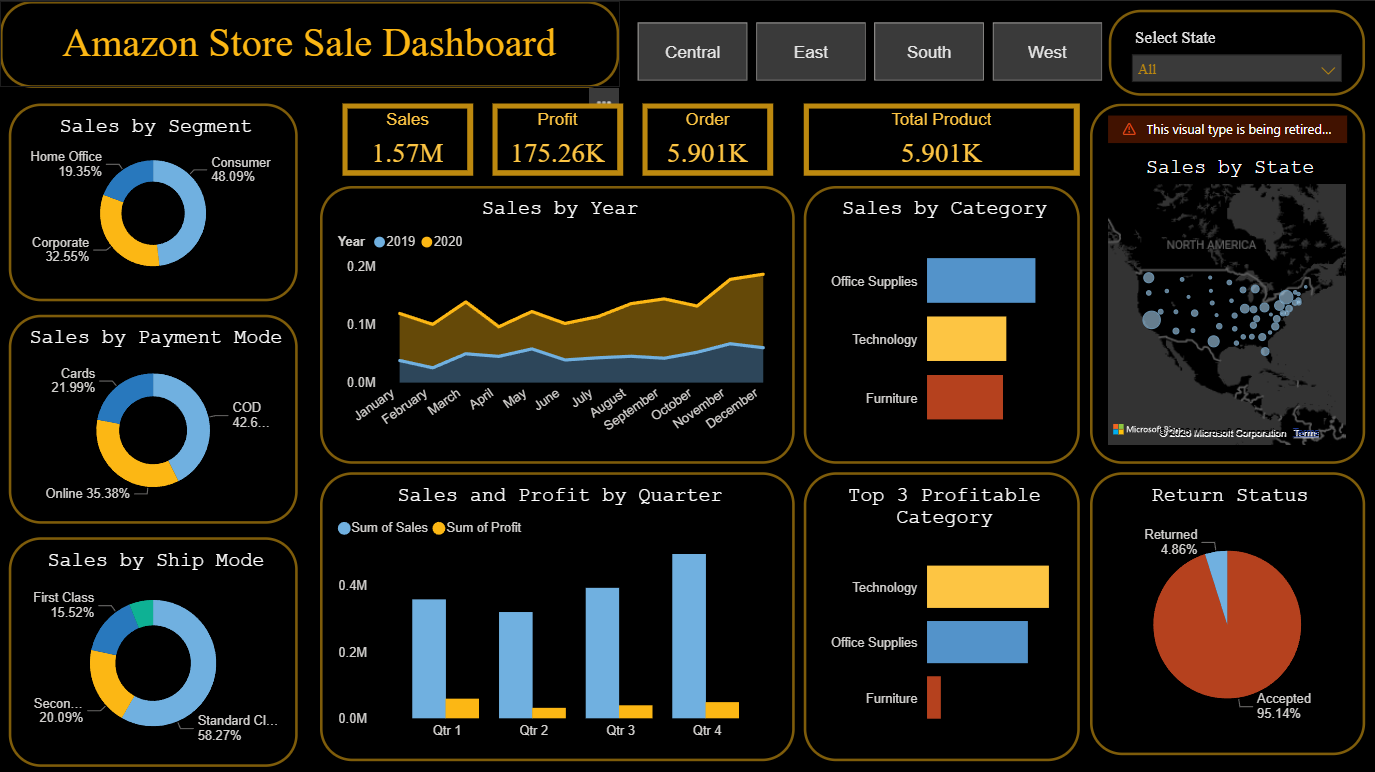

This screenshot's page, from the dashboard's own definition file:
{"tool":"powerbi","page":{"name":"Page 1","canvas":[1280,720],"ordinal":0},"visuals":[{"type":"barChart","title":"Sales by Category","fields":{"Category":["Amazon Store Sales Data xlsx - Sheet1 (1).Category"],"Y":["Sum(Amazon Store Sales Data xlsx - Sheet1 (1).Sales)"]},"box":[748.1,171.7,257,258.2],"z":0},{"type":"donutChart","title":"Sales by Segment","fields":{"Y":["Sum(Amazon Store Sales Data xlsx - Sheet1 (1).Sales)"],"Category":["Amazon Store Sales Data xlsx - Sheet1 (1).Segment"]},"box":[8.4,94.9,269,183.7],"z":1000},{"type":"donutChart","title":"Sales by Payment Mode","fields":{"Y":["Sum(Amazon Store Sales Data xlsx - Sheet1 (1).Sales)"],"Category":["Amazon Store Sales Data xlsx - Sheet1 (1).Payment Mode"]},"box":[8.4,291.8,269,194.5],"z":2000},{"type":"donutChart","title":"Sales by Ship Mode","fields":{"Y":["Sum(Amazon Store Sales Data xlsx - Sheet1 (1).Sales)"],"Category":["Amazon Store Sales Data xlsx - Sheet1 (1).Ship Mode"]},"box":[8.4,498.3,269,213.7],"z":3000},{"type":"pieChart","title":" Return Status","fields":{"Category":["Amazon Store Sales Data xlsx - Sheet1 (1).Return Status"],"Y":["CountNonNull(Amazon Store Sales Data xlsx - Sheet1 (1).Order ID)"]},"box":[1013.4,438.3,255.8,263],"z":4000},{"type":"stackedAreaChart","title":" Sales by Year","fields":{"Category":["Amazon Store Sales Data xlsx - Sheet1 (1).Order Date.Variation.Date Hierarchy.Month"],"Y":["Sum(Amazon Store Sales Data xlsx - Sheet1 (1).Sales)"],"Series":["Amazon Store Sales Data xlsx - Sheet1 (1).Order Date.Variation.Date Hierarchy.Year"]},"box":[297.8,171.7,441.9,258.2],"z":5000},{"type":"clusteredColumnChart","title":"Sales and Profit by Quarter","fields":{"Y":["Sum(Amazon Store Sales Data xlsx - Sheet1 (1).Sales)","Sum(Amazon Store Sales Data xlsx - Sheet1 (1).Profit)"],"Category":["Amazon Store Sales Data xlsx - Sheet1 (1).Order Date.Variation.Date Hierarchy.Quarter"]},"box":[297.8,438.3,441.9,269],"z":6000},{"type":"map","title":" Sales by State","fields":{"Category":["Amazon Store Sales Data xlsx - Sheet1 (1).State"],"Size":["Sum(Amazon Store Sales Data xlsx - Sheet1 (1).Sales)"]},"box":[1013.4,94.9,255.8,335],"z":7000},{"type":"textbox","box":[0,0,576.4,80.5],"z":8000},{"type":"clusteredBarChart","title":"Top 3 Profitable Category","fields":{"Y":["Sum(Amazon Store Sales Data xlsx - Sheet1 (1).Profit)"],"Category":["Amazon Store Sales Data xlsx - Sheet1 (1).Category"]},"box":[748,438,257,269],"z":9000},{"type":"advancedSlicerVisual","fields":{"Values":["Amazon Store Sales Data xlsx - Sheet1 (1).Region"]},"box":[588.4,15.6,443.1,64.8],"z":10000},{"type":"cardVisual","fields":{"Data":["Sum(Amazon Store Sales Data xlsx - Sheet1 (1).Sales)"]},"box":[318.2,94.9,121.3,67.2],"z":11000},{"type":"cardVisual","fields":{"Data":["Sum(Amazon Store Sales Data xlsx - Sheet1 (1).Profit)"]},"box":[458.7,94.9,121.3,67.2],"z":12000},{"type":"cardVisual","fields":{"Data":["CountNonNull(Amazon Store Sales Data xlsx - Sheet1 (1).Order ID)"]},"box":[598,94.9,121.3,67.2],"z":13000},{"type":"cardVisual","fields":{"Data":["CountNonNull(Amazon Store Sales Data xlsx - Sheet1 (1).Product ID)"]},"box":[748.1,94.9,257,67.2],"z":14000},{"type":"slicer","fields":{"Values":["Amazon Store Sales Data xlsx - Sheet1 (1).State"]},"box":[1031.3,8.4,238.3,80.1],"z":15000}]}

Visuals, with their boxes in screenshot pixels (x1, y1, x2, y2), scaled from the page's 1280x720 canvas onto the 1375x772 screenshot:
"Sales by Category" barChart: 804/184/1080/461
"Sales by Segment" donutChart: 9/102/298/299
"Sales by Payment Mode" donutChart: 9/313/298/521
"Sales by Ship Mode" donutChart: 9/534/298/763
" Return Status" pieChart: 1089/470/1363/752
" Sales by Year" stackedAreaChart: 320/184/795/461
"Sales and Profit by Quarter" clusteredColumnChart: 320/470/795/758
" Sales by State" map: 1089/102/1363/461
textbox: 0/0/619/86
"Top 3 Profitable Category" clusteredBarChart: 804/470/1080/758
advancedSlicerVisual - Amazon Store Sales Data xlsx - Sheet1 (1).Region: 632/17/1108/86
cardVisual - Sum(Amazon Store Sales Data xlsx - Sheet1 (1).Sales): 342/102/472/174
cardVisual - Sum(Amazon Store Sales Data xlsx - Sheet1 (1).Profit): 493/102/623/174
cardVisual - CountNonNull(Amazon Store Sales Data xlsx - Sheet1 (1).Order ID): 642/102/773/174
cardVisual - CountNonNull(Amazon Store Sales Data xlsx - Sheet1 (1).Product ID): 804/102/1080/174
slicer - Amazon Store Sales Data xlsx - Sheet1 (1).State: 1108/9/1364/95
